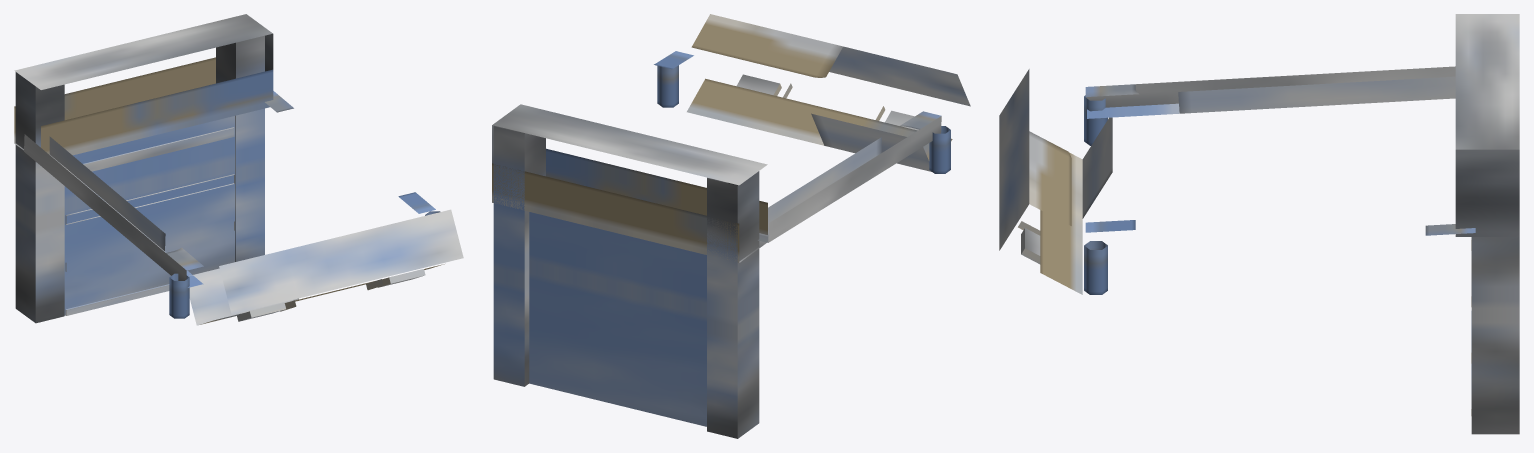
Rendered from section-2.obj.
3 views of the same model, side by side, from view 1: azimuth 30°, elevation 25°; view 2: azimuth 150°, elevation 25°; view 3: azimuth 270°, elevation 25° (orthographic). The views are drawn at different scales.
Bounding box in the file's own units: 0.932 × 0.785 × 1.3.
